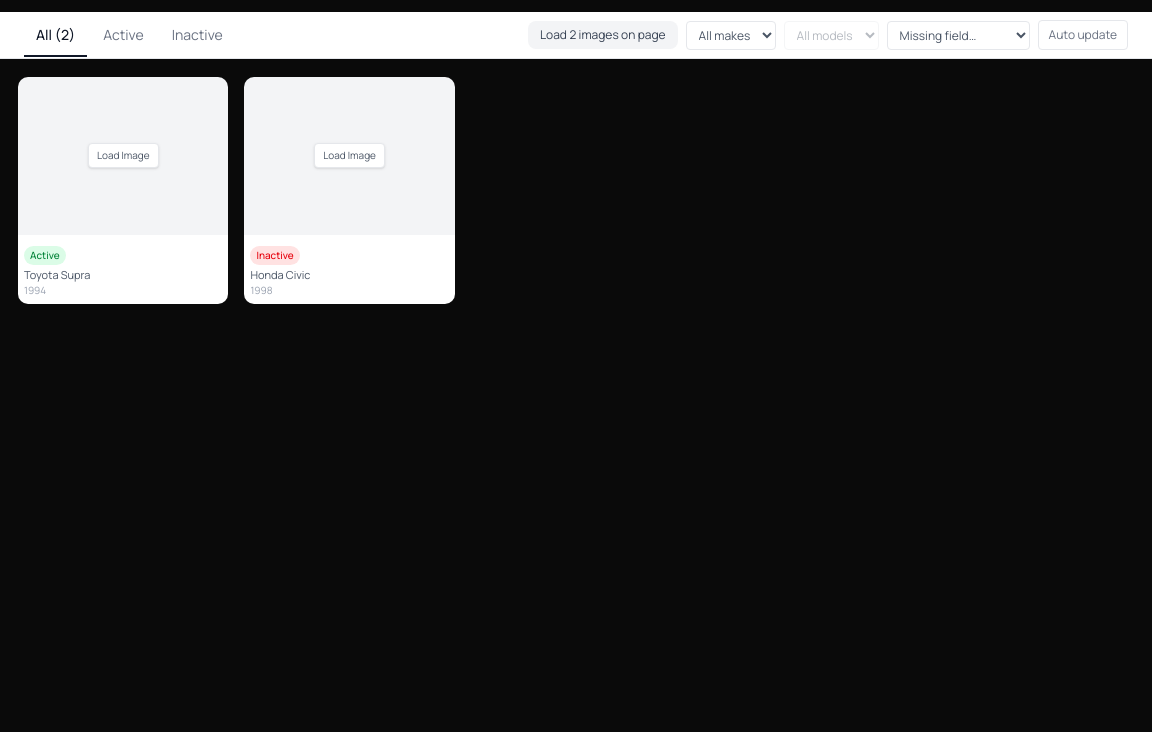
Test: ImagesPanel › detail panel › checks the Active checkbox when the selected image is active
Click the text "Toyota Supra". click: (57, 274)
box: [24,267,90,282]
(page scrolled)
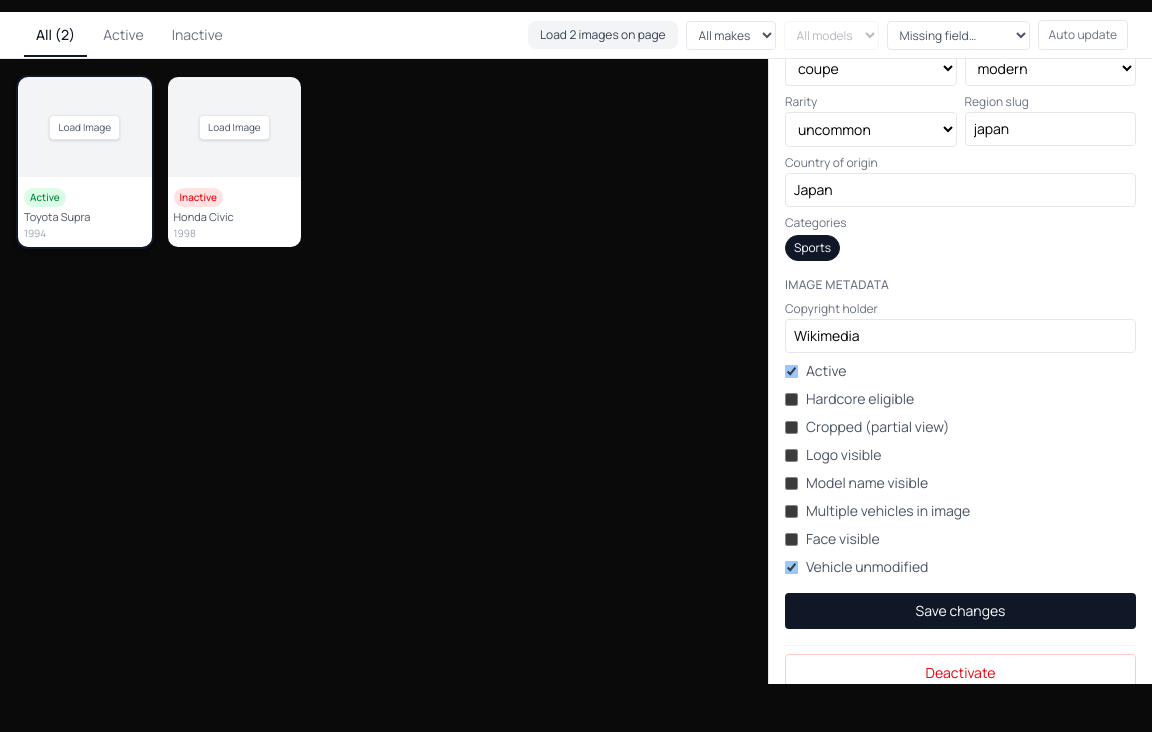
Now the checkbox labelled "Active" is checked, box [785,365,798,378]
